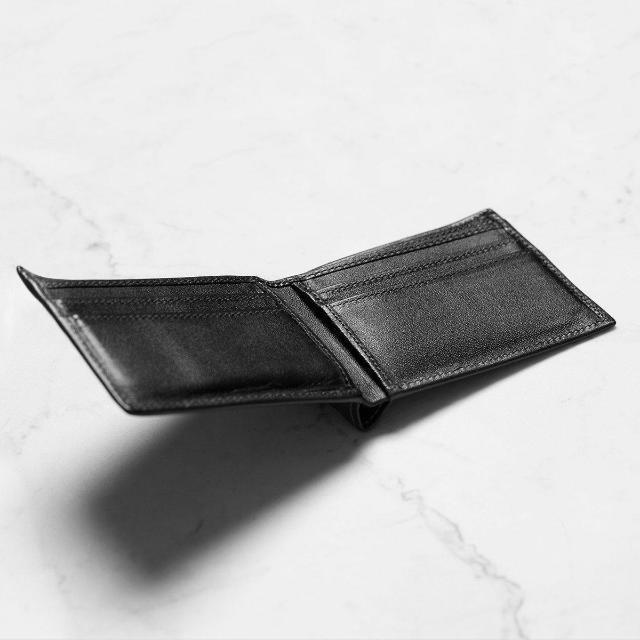wallet: (14, 200, 620, 420)
